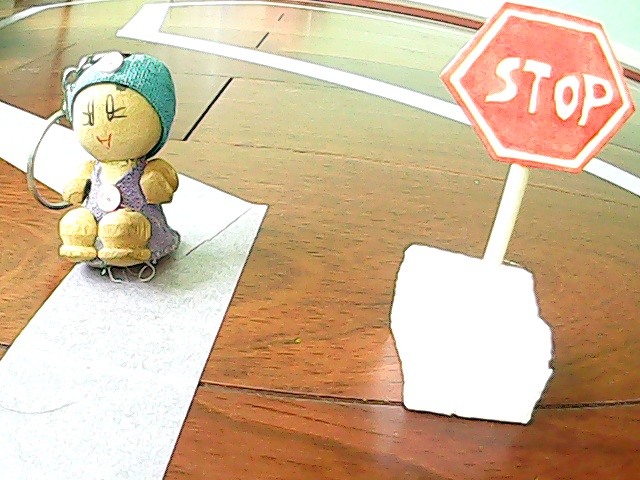pedestrain: (24, 43, 194, 289)
stop: (411, 1, 634, 424)
